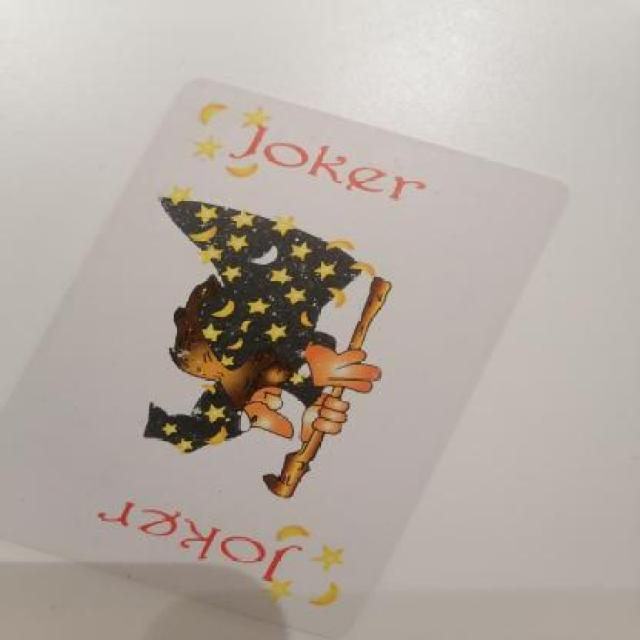BLACK JOKER: (150, 83, 447, 235), (62, 498, 398, 627)
